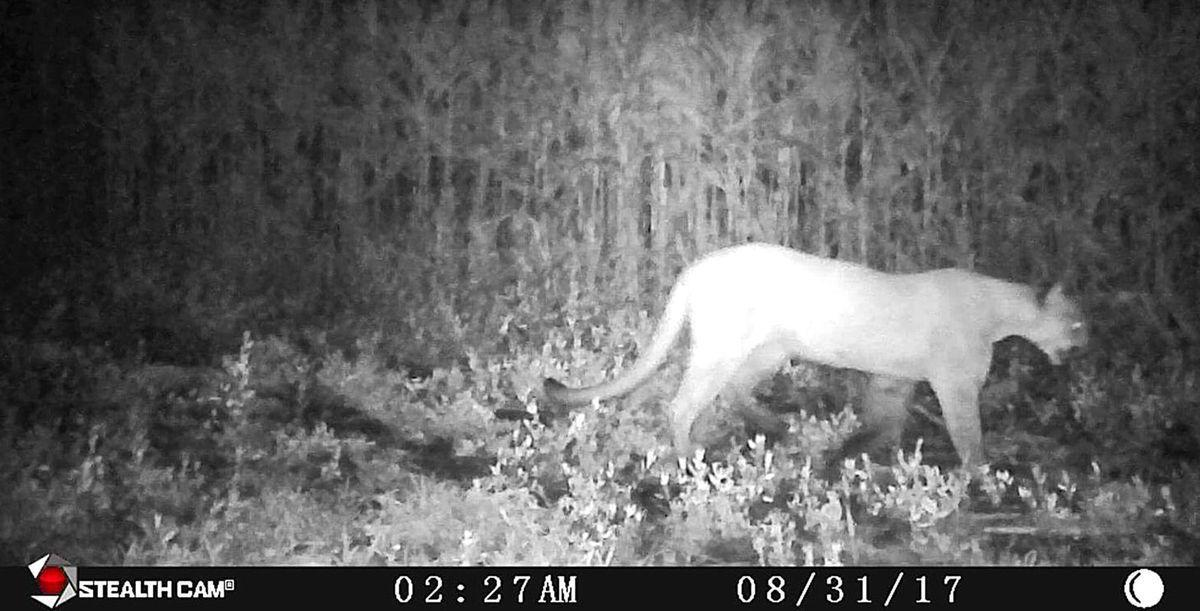mountain lion: (524, 232, 1097, 472)
